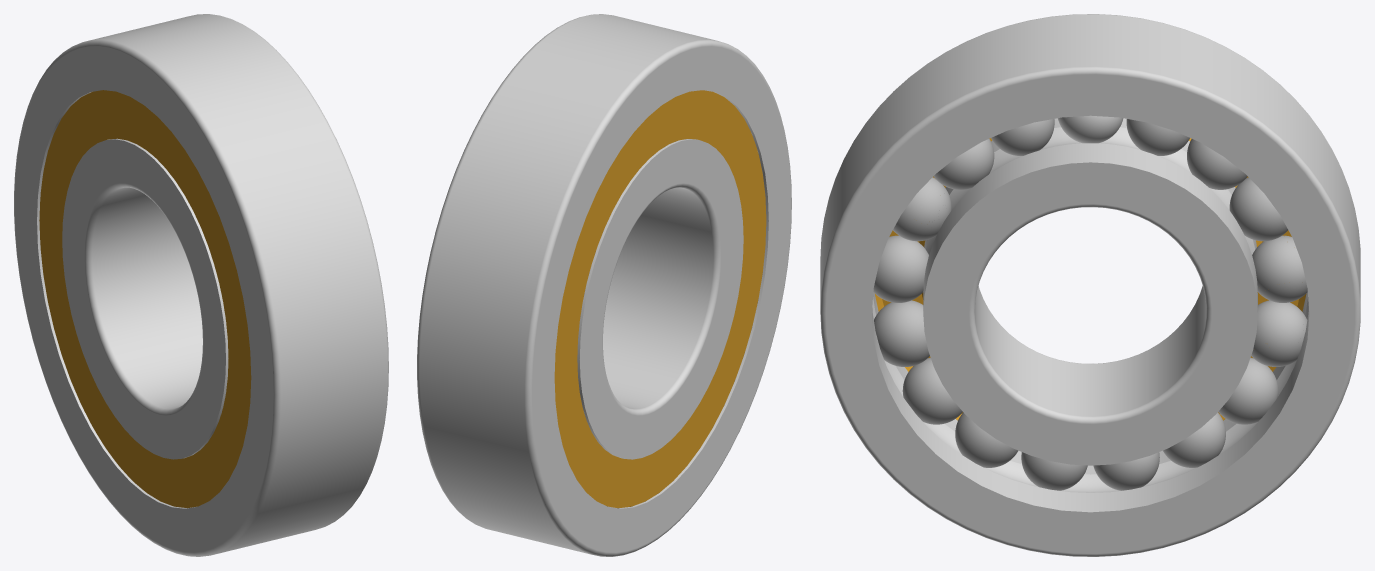
File: 3.1 Rolling Bearing.glb
The picture shows the model from 3 angles, left to right: view 1: azimuth 30°, elevation 25°; view 2: azimuth 150°, elevation 25°; view 3: azimuth 270°, elevation 25°; orthographic projection. The views are drawn at different scales.
Visible parts, largest first — view 1: GB╱T 276-2013[一面带密封圈（接触式）的深沟球轴承[60000-RS]16001-RS].SLDPRT; view 2: GB╱T 276-2013[一面带密封圈（接触式）的深沟球轴承[60000-RS]16001-RS].SLDPRT; view 3: GB╱T 276-2013[一面带密封圈（接触式）的深沟球轴承[60000-RS]16001-RS].SLDPRT.
Part boxes in pixels (left/top/right/bottom): GB╱T 276-2013[一面带密封圈（接触式）的深沟球轴承[60000-RS]16001-RS].SLDPRT: left=14, top=14, right=388, bottom=556; GB╱T 276-2013[一面带密封圈（接触式）的深沟球轴承[60000-RS]16001-RS].SLDPRT: left=417, top=14, right=791, bottom=556; GB╱T 276-2013[一面带密封圈（接触式）的深沟球轴承[60000-RS]16001-RS].SLDPRT: left=820, top=14, right=1360, bottom=556.
Bounding box in the file's own units: 0.007 × 0.028 × 0.028.
